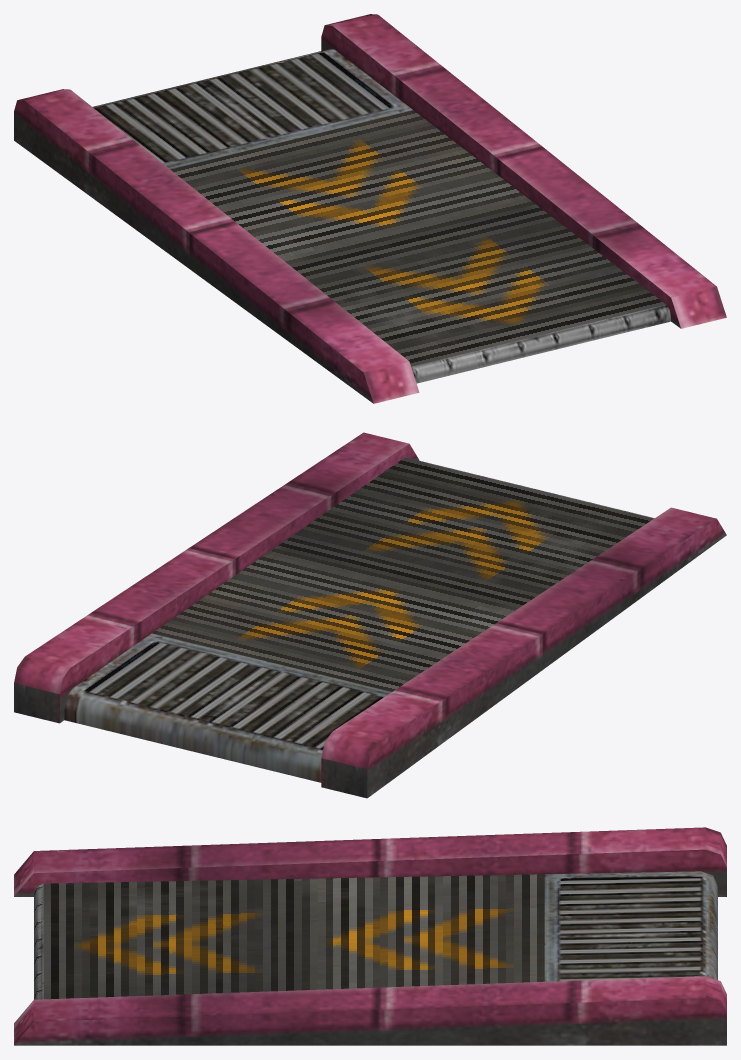
Rendered from dash_panel.fbx.
3 renders of one model, top to bottom at view 1: azimuth 30°, elevation 25°; view 2: azimuth 150°, elevation 25°; view 3: azimuth 270°, elevation 25°, orthographic.
Parts seen in each view (by area): view 1: Dash Panel; view 2: Dash Panel; view 3: Dash Panel.
Part boxes in pixels (x1=…): Dash Panel: x1=14, y1=14, x2=726, y2=403; Dash Panel: x1=14, y1=432, x2=726, y2=798; Dash Panel: x1=14, y1=827, x2=726, y2=1045.
Size of the model in its own units: 1.96 by 0.253 by 3.46.
